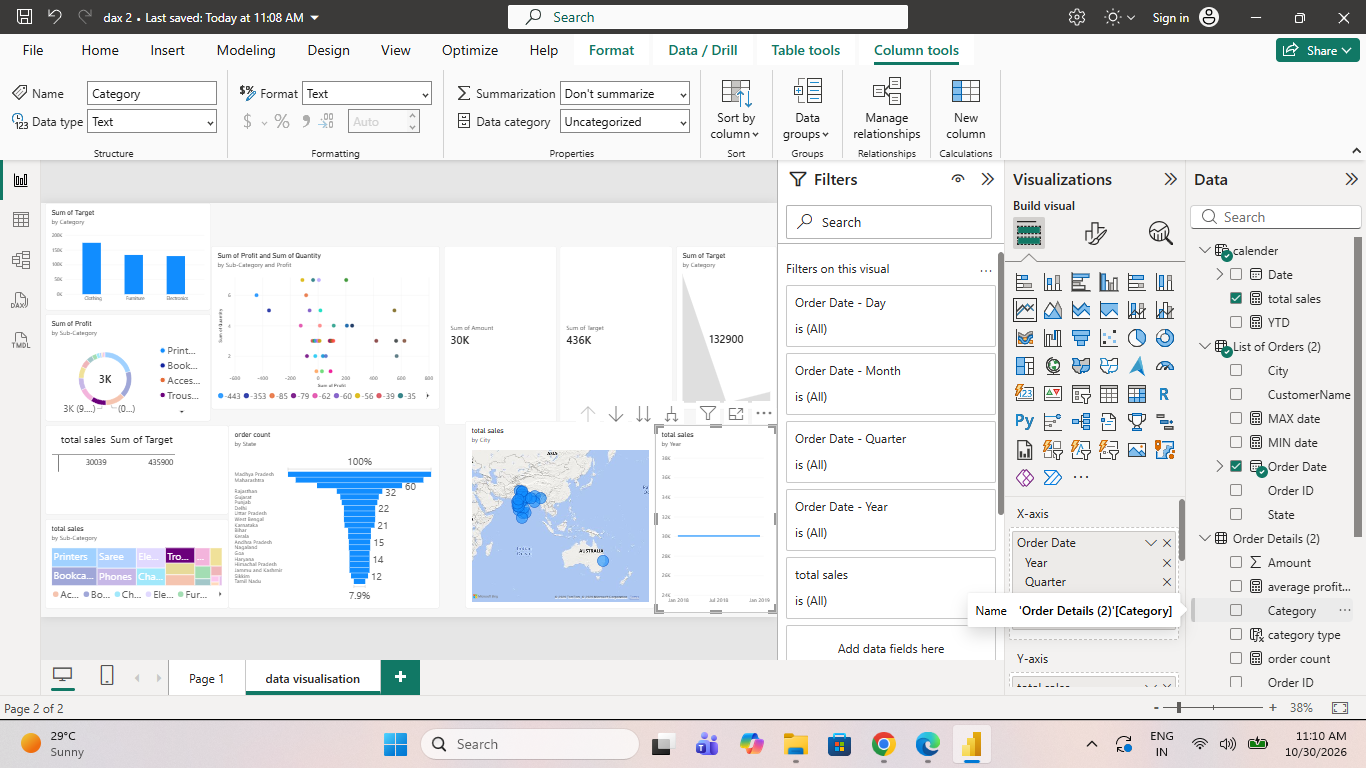

The page's visual inventory and layout, read from the dashboard file:
{"tool":"powerbi","page":{"name":"data visualisation","canvas":[1920,1080],"ordinal":1},"visuals":[{"type":"columnChart","fields":{"Category":["Sales target (2).Category"],"Y":["Sum(Sales target (2).Target)"]},"box":[10.1,0,433.4,279.7],"z":0},{"type":"donutChart","fields":{"Category":["Order Details (2).Sub-Category"],"Y":["Sum(Order Details (2).Profit)"]},"box":[10.1,289.8,433.4,279.7],"z":1},{"type":"pivotTable","fields":{"Values":["calender.total sales","Sum(Sales target (2).Target)"]},"box":[10.1,579.5,478.7,234.3],"z":2},{"type":"scatterChart","fields":{"Category":["Order Details (2).Sub-Category"],"X":["Sum(Order Details (2).Profit)"],"Y":["Sum(Order Details (2).Quantity)"]},"box":[443.5,113.4,597.2,425.8],"z":3},{"type":"cardVisual","fields":{"Data":["Sum(Order Details (2).Amount)","Sum(Sales target (2).Target)"]},"box":[1050.7,113.4,597.2,466.1],"z":4},{"type":"kpi","fields":{"Indicator":["Sum(Sales target (2).Target)"],"TrendLine":["Sales target (2).Category"]},"box":[1657,113,263,426],"z":5},{"type":"treemap","fields":{"Details":["Order Details (2).Sub-Category"],"Values":["calender.total sales"]},"box":[10,824,479,234],"z":6},{"type":"funnel","fields":{"Category":["List of Orders (2).State"],"Y":["Order Details (2).order count"]},"box":[488.8,579.5,551.8,478.7],"z":7},{"type":"lineChart","fields":{"Category":["List of Orders (2).Order Date"],"Y":["calender.total sales"]},"box":[1657,569,263,489],"z":9},{"type":"map","fields":{"Category":["List of Orders (2).City"]},"box":[1051,580,597,479],"z":10}]}

Visuals, with their boxes on the page's 1920x1080 design canvas (x1, y1, x2, y2). These are canvas units, not pixel positions in the 1366x768 screenshot, which may show the page scaled, cropped or inside an application window:
columnChart - Sales target (2).Category x Sum(Sales target (2).Target): left=10, top=0, right=444, bottom=280
donutChart - Order Details (2).Sub-Category x Sum(Order Details (2).Profit): left=10, top=290, right=444, bottom=570
pivotTable - calender.total sales x Sum(Sales target (2).Target): left=10, top=580, right=489, bottom=814
scatterChart - Order Details (2).Sub-Category x Sum(Order Details (2).Profit): left=444, top=113, right=1041, bottom=539
cardVisual - Sum(Order Details (2).Amount) x Sum(Sales target (2).Target): left=1051, top=113, right=1648, bottom=580
kpi - Sum(Sales target (2).Target) x Sales target (2).Category: left=1657, top=113, right=1920, bottom=539
treemap - Order Details (2).Sub-Category x calender.total sales: left=10, top=824, right=489, bottom=1058
funnel - List of Orders (2).State x Order Details (2).order count: left=489, top=580, right=1041, bottom=1058
lineChart - List of Orders (2).Order Date x calender.total sales: left=1657, top=569, right=1920, bottom=1058
map - List of Orders (2).City: left=1051, top=580, right=1648, bottom=1059
